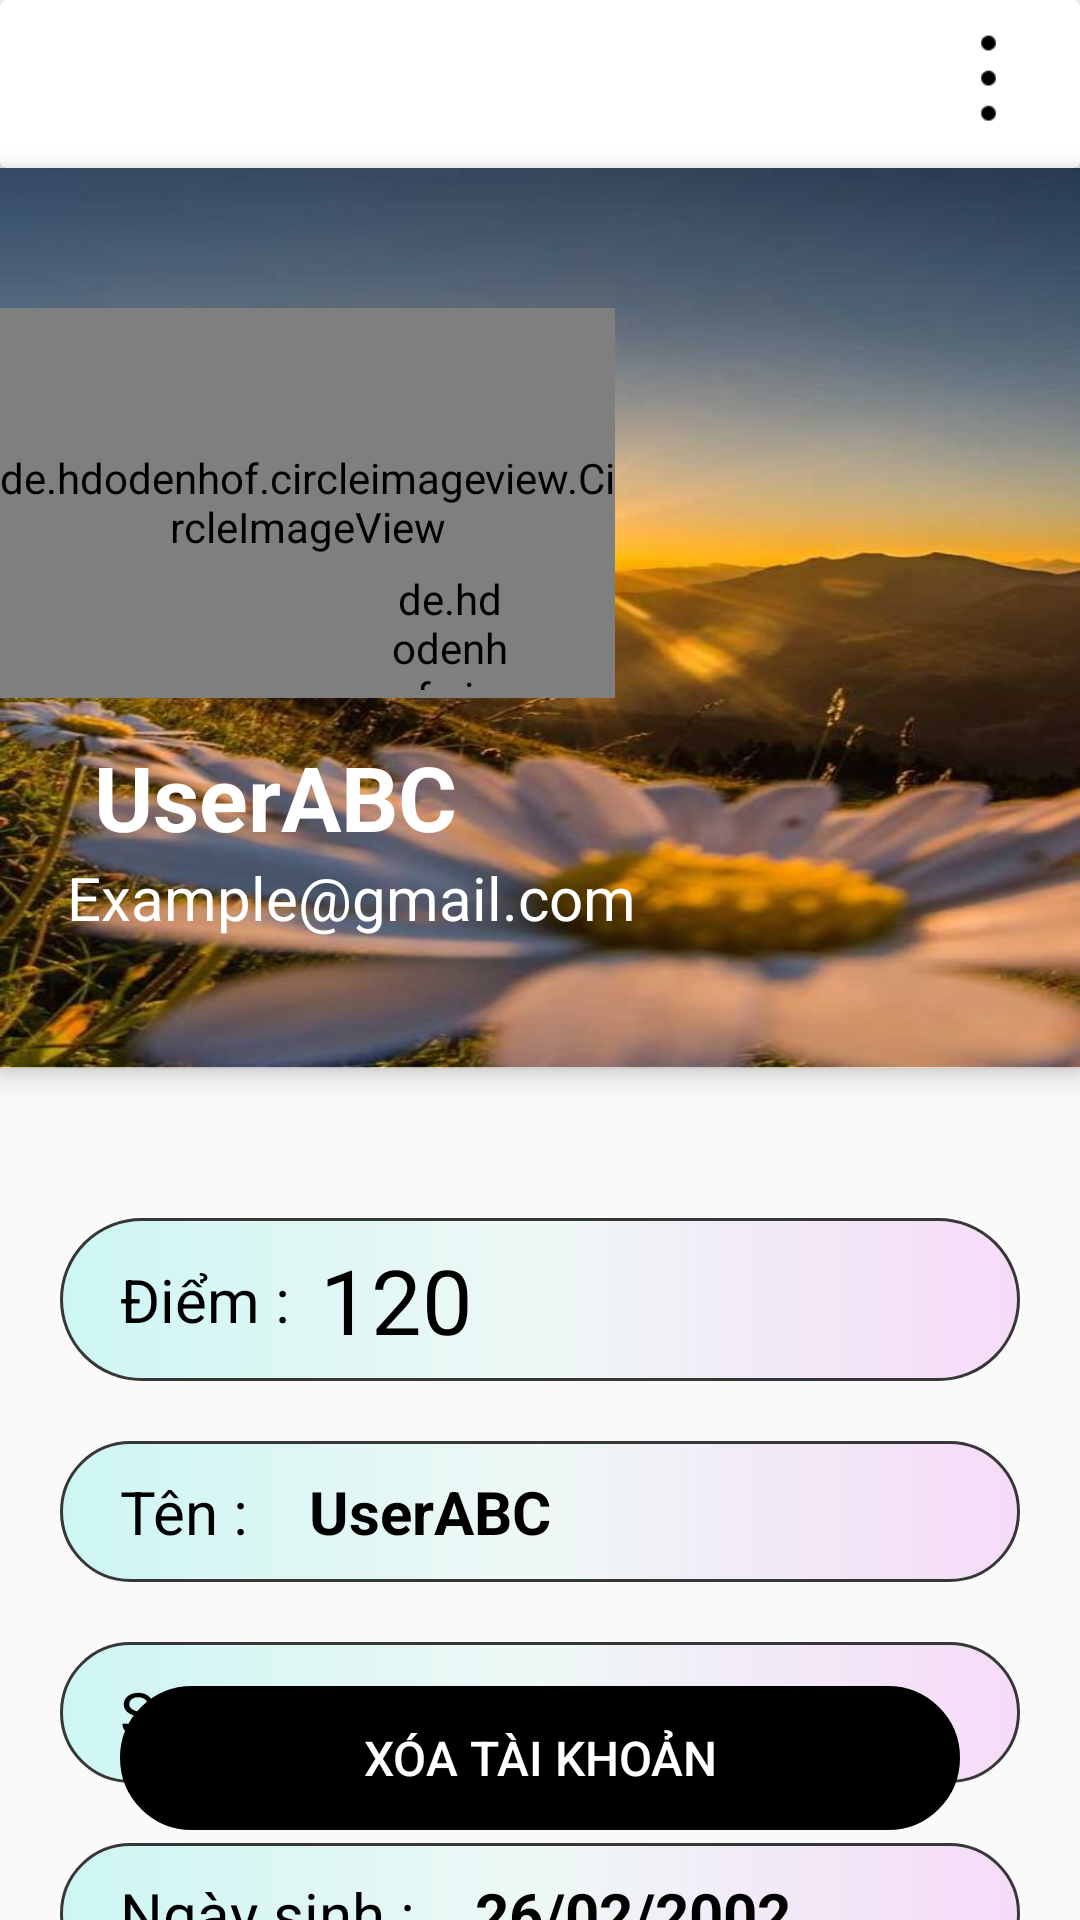

Where icons sit on this 1080x1920 app screen, as bbox(x1, y1, x2, y2):
3cham: bbox(981, 35, 996, 121)
